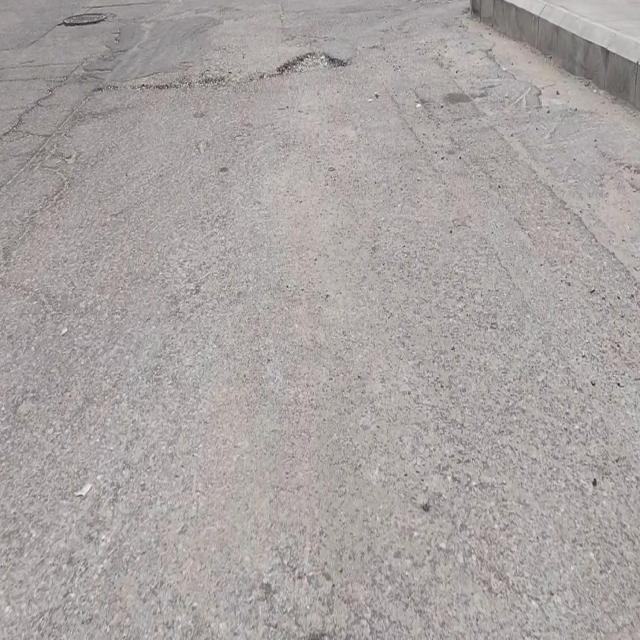Potholes: (277, 52, 347, 75)
